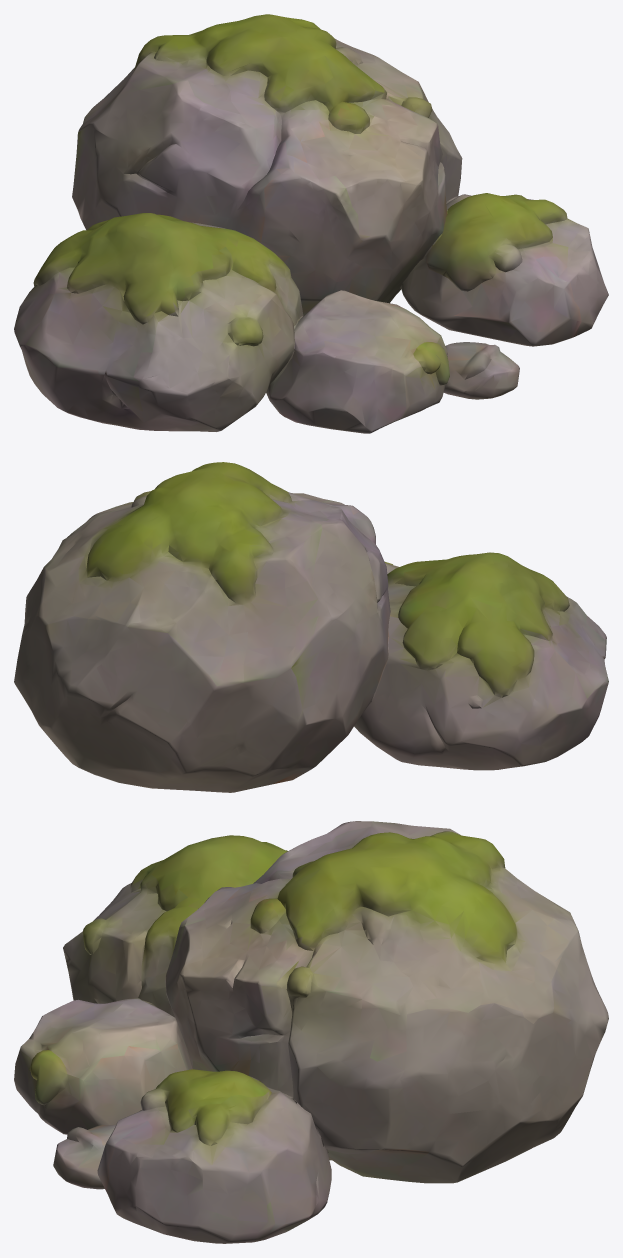
Rendered from rocas_pequenas.glb.
3 views of the same model, one above another, from view 1: azimuth 30°, elevation 25°; view 2: azimuth 150°, elevation 25°; view 3: azimuth 270°, elevation 25° (orthographic). The views are drawn at different scales.
Visible parts, largest first — view 1: rocas_pequenas_malla; view 2: rocas_pequenas_malla; view 3: rocas_pequenas_malla.
Boxes of the visible parts, box(x1,y1,x2,y2) form: rocas_pequenas_malla: box(14, 14, 608, 433); rocas_pequenas_malla: box(14, 462, 608, 792); rocas_pequenas_malla: box(14, 821, 608, 1243).
Size of the model in its own units: 0.4292 by 0.2072 by 0.3797.
Materials: 1 (1 with a texture image).
